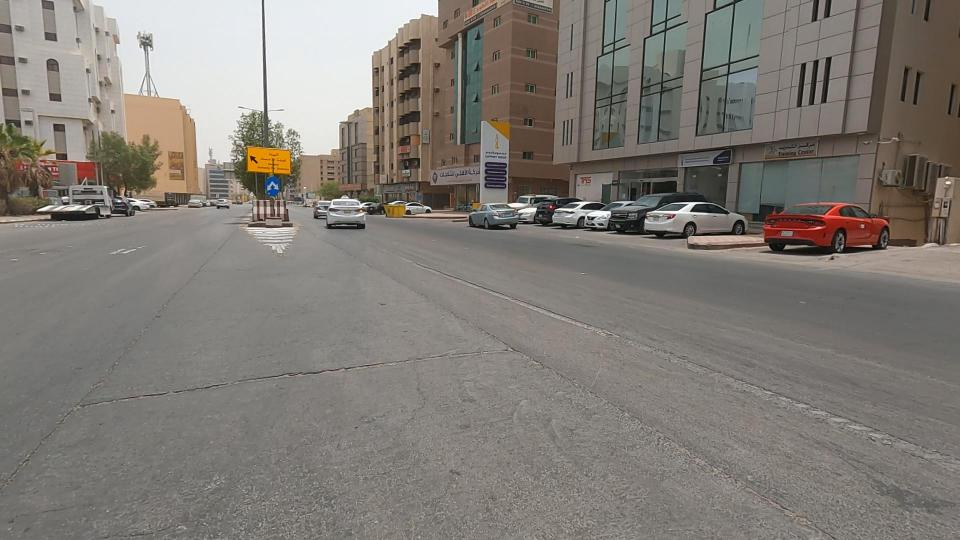BAD_BILLBOARD: (153, 133, 197, 198), (321, 164, 362, 202)
